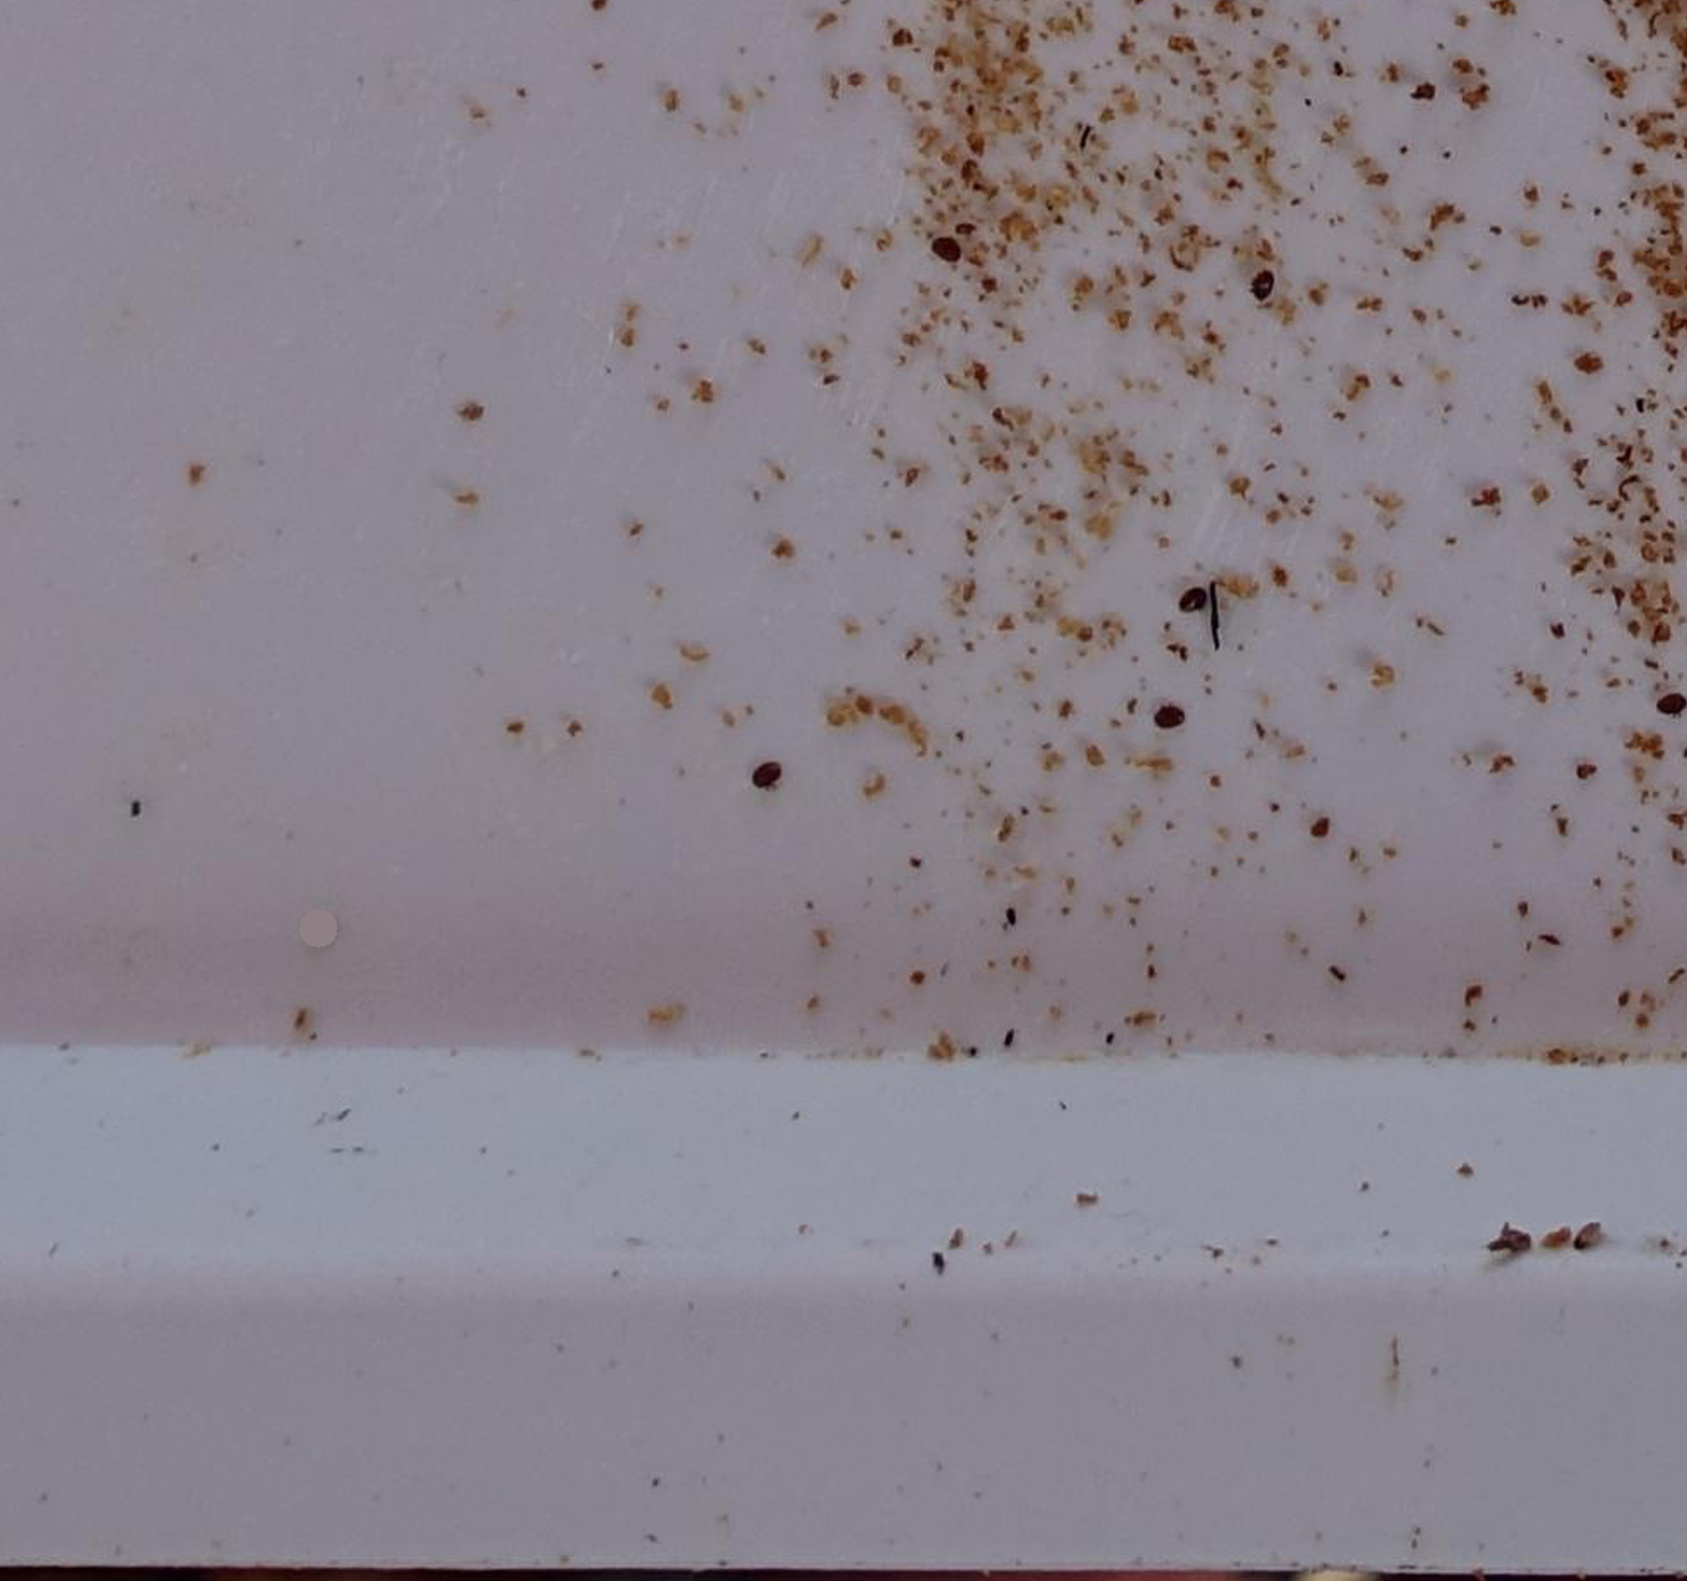Varroa: (1252, 270, 1277, 296), (1660, 689, 1684, 715), (1158, 704, 1180, 728), (930, 241, 956, 262), (755, 759, 777, 782), (1182, 585, 1202, 609)
